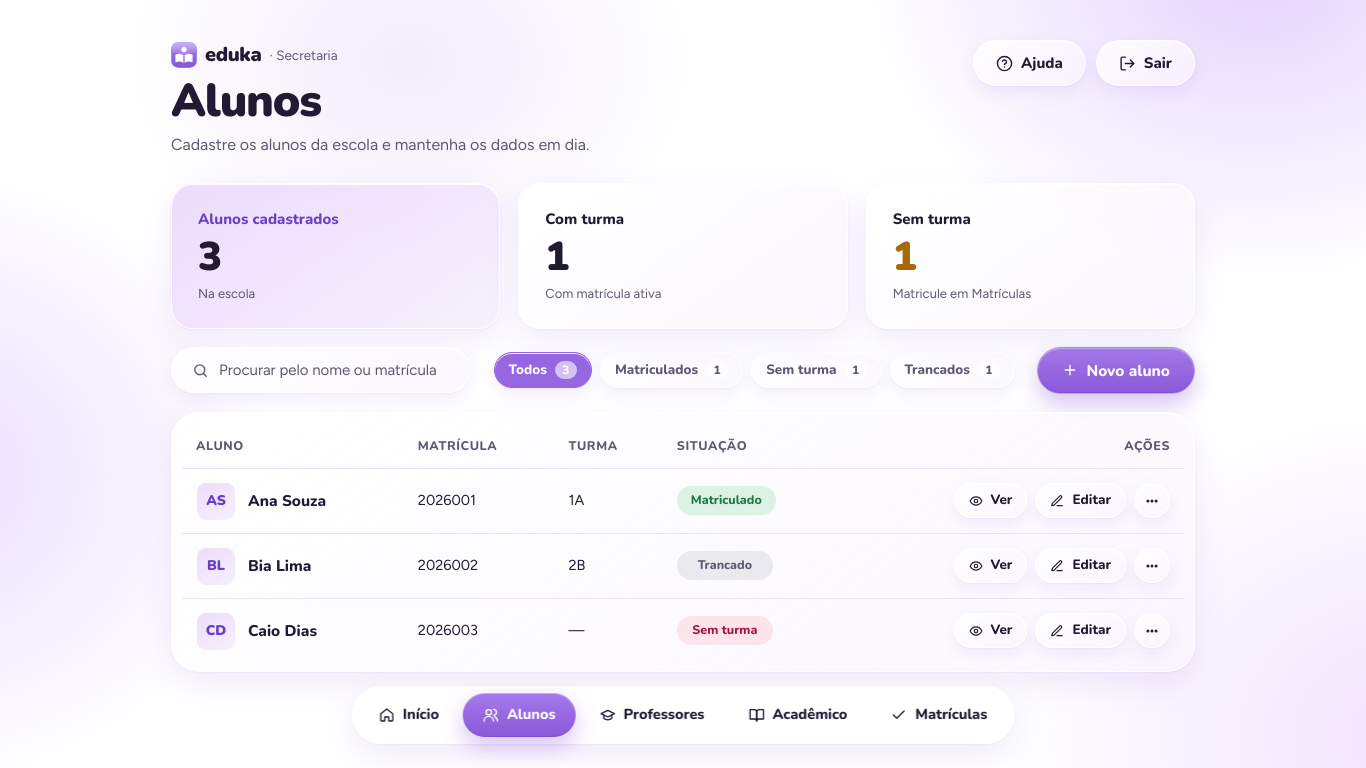
Test: Alunos › mostra turma e situação que vêm com cada aluno, sem buscar as matrículas
Expected: the text "1A" is shown, [554, 468, 663, 533]
Expected: the text "Matriculado" is shown, [677, 486, 776, 515]
Click the button "Sem turma 1".
click(816, 370)  # box [751, 352, 882, 388]
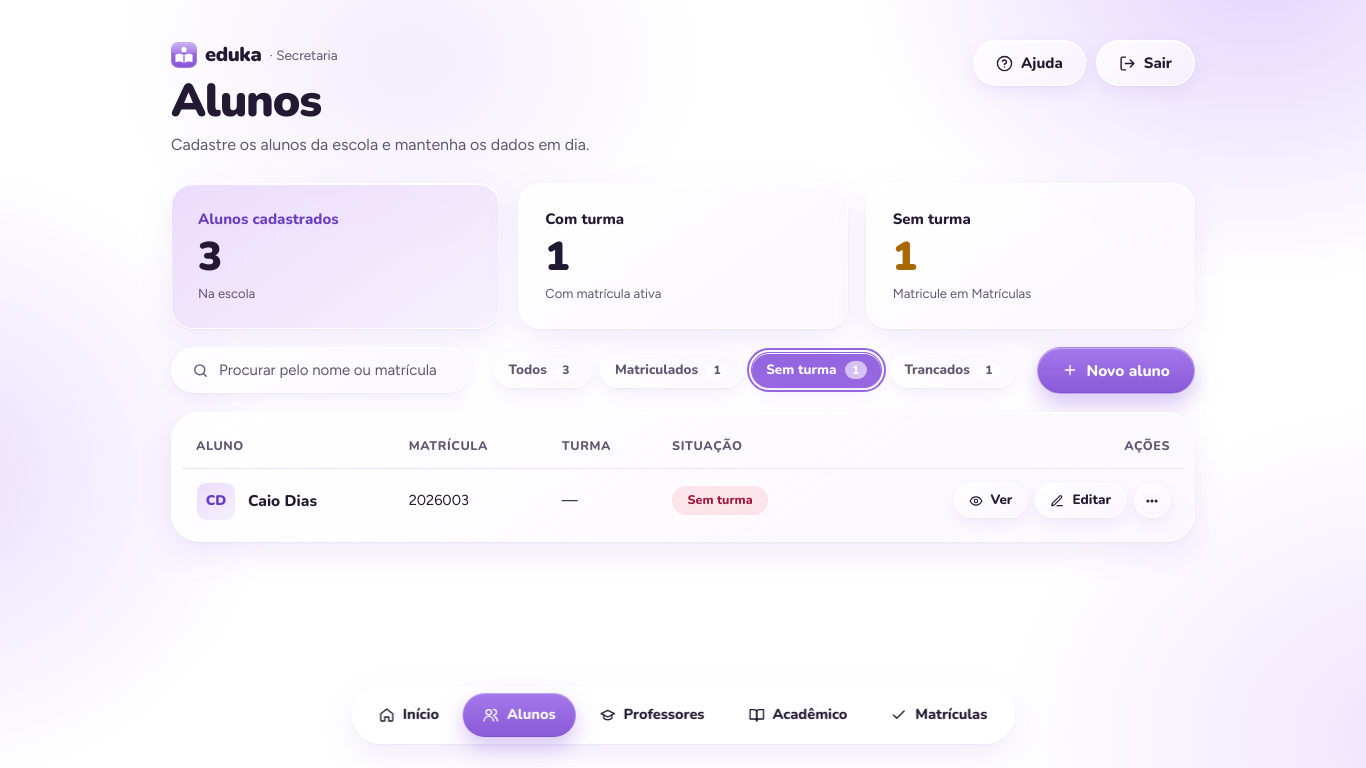
Expected: the text "Caio Dias" is shown, [248, 490, 317, 511]
Expected: the text "Ana Souza" is gone
